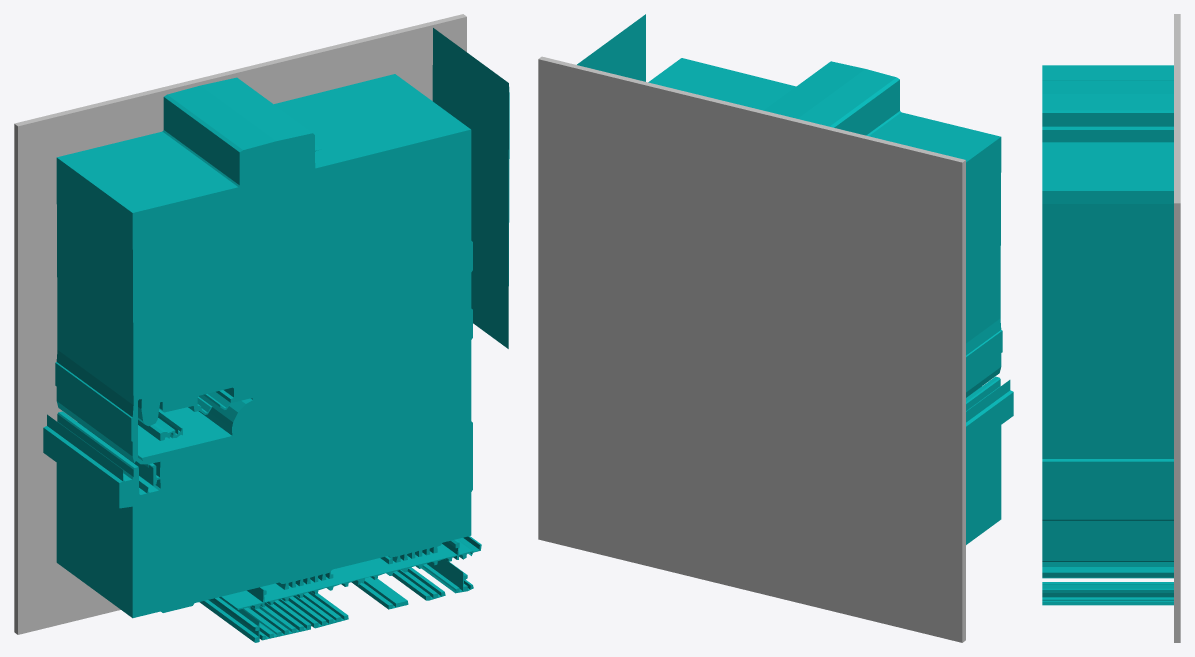
3 renders of one model, left to right at view 1: azimuth 30°, elevation 25°; view 2: azimuth 150°, elevation 25°; view 3: azimuth 270°, elevation 25°, orthographic. The views are drawn at different scales.
Visible parts, largest first — view 1: world; view 2: world; view 3: world.
Boxes of the visible parts, x1=… form: world: x1=14, y1=14, x2=509, y2=642; world: x1=538, y1=14, x2=1013, y2=642; world: x1=1042, y1=14, x2=1180, y2=642.
Size of the model in its own units: 10.23 by 11.07 by 3.15.
